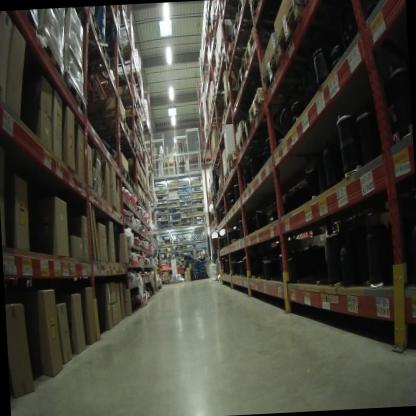pallet: (262, 0, 346, 97), (247, 80, 314, 129), (37, 29, 69, 82), (242, 24, 282, 66), (223, 39, 266, 72), (228, 15, 268, 46), (104, 50, 140, 84), (233, 55, 265, 91), (73, 108, 126, 129), (81, 37, 112, 71), (241, 113, 273, 143), (236, 135, 275, 159), (66, 71, 87, 114), (79, 10, 107, 42), (223, 93, 252, 116), (97, 121, 131, 140), (236, 0, 274, 17), (213, 60, 234, 88), (208, 94, 232, 118), (218, 0, 248, 18), (250, 0, 283, 16), (101, 5, 130, 23), (214, 120, 237, 141), (219, 110, 242, 129), (209, 155, 226, 171), (228, 148, 239, 170), (217, 41, 227, 65), (210, 145, 224, 162), (120, 161, 130, 184), (227, 164, 240, 178), (207, 15, 216, 34), (126, 133, 136, 149), (128, 175, 135, 192), (208, 180, 215, 195), (132, 187, 140, 199), (223, 171, 229, 187), (219, 179, 224, 192), (215, 189, 220, 202)
